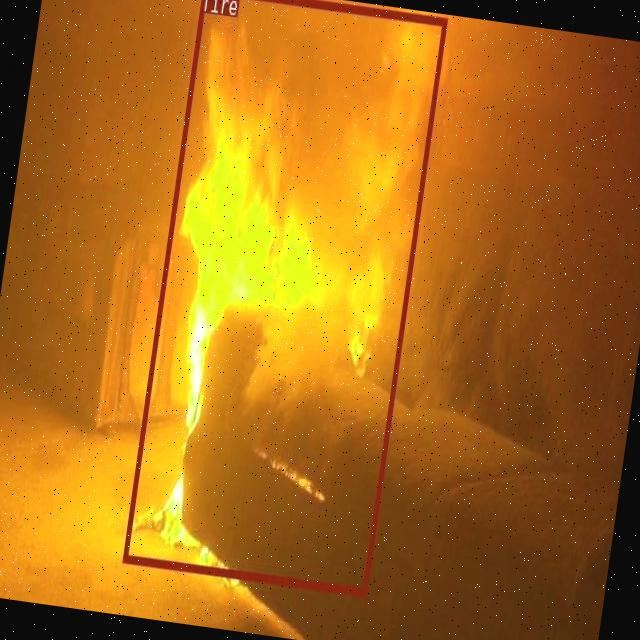fire: (122, 0, 447, 595)
